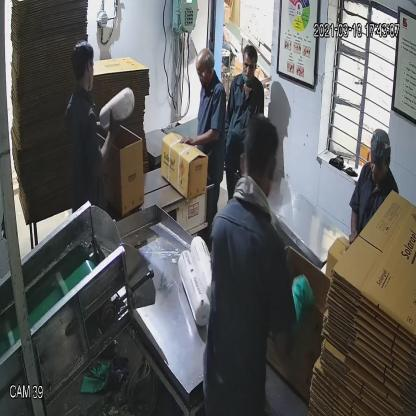glove: (284, 266, 318, 326)
no_glove: (86, 108, 130, 175), (176, 120, 223, 158)
